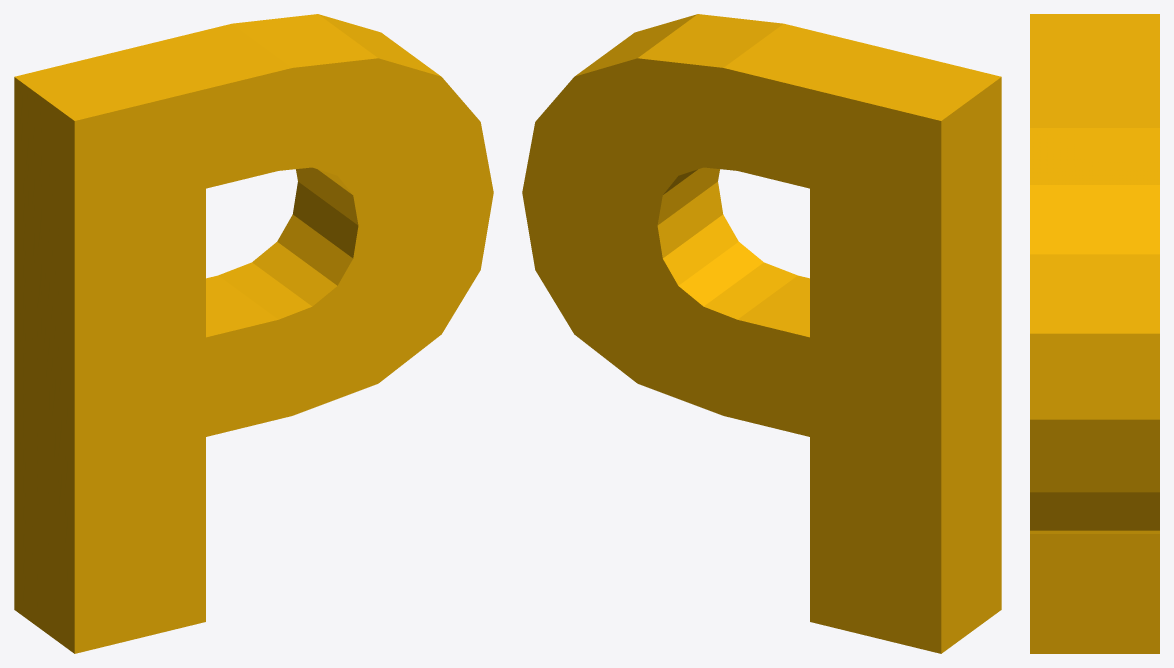
Rendered from huruf_besar_p.glb.
3 views of the same model, side by side, from view 1: azimuth 30°, elevation 25°; view 2: azimuth 150°, elevation 25°; view 3: azimuth 270°, elevation 25° (orthographic). The views are drawn at different scales.
Visible parts, largest first — view 1: geometry_0; view 2: geometry_0; view 3: geometry_0.
Boxes of the visible parts, x1,y1,x2,y2 form: geometry_0: (14,14,493,653); geometry_0: (522,14,1001,653); geometry_0: (1030,14,1159,653).
Bounding box in the file's own units: 6 × 7.29 × 1.5.
